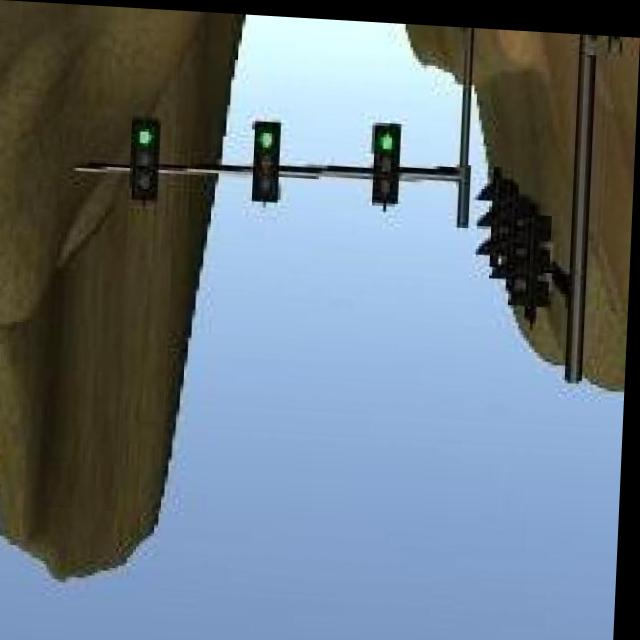green light: (130, 117, 165, 199), (251, 120, 285, 198), (374, 121, 402, 199)
